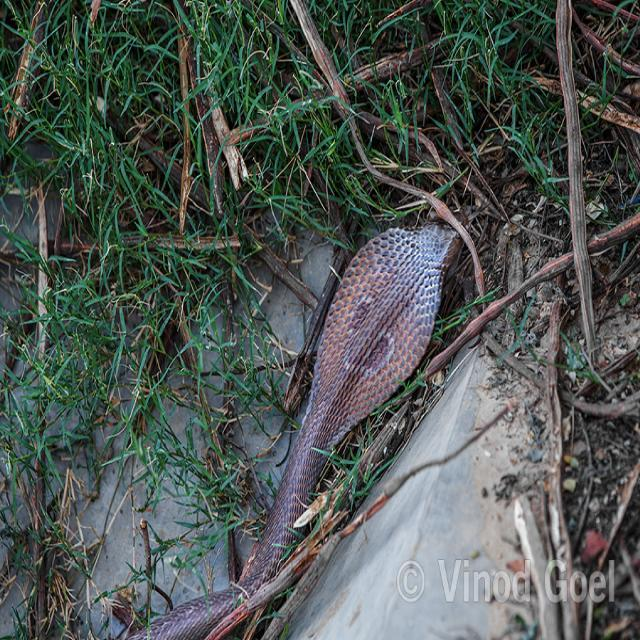Snake: (118, 211, 466, 640)
